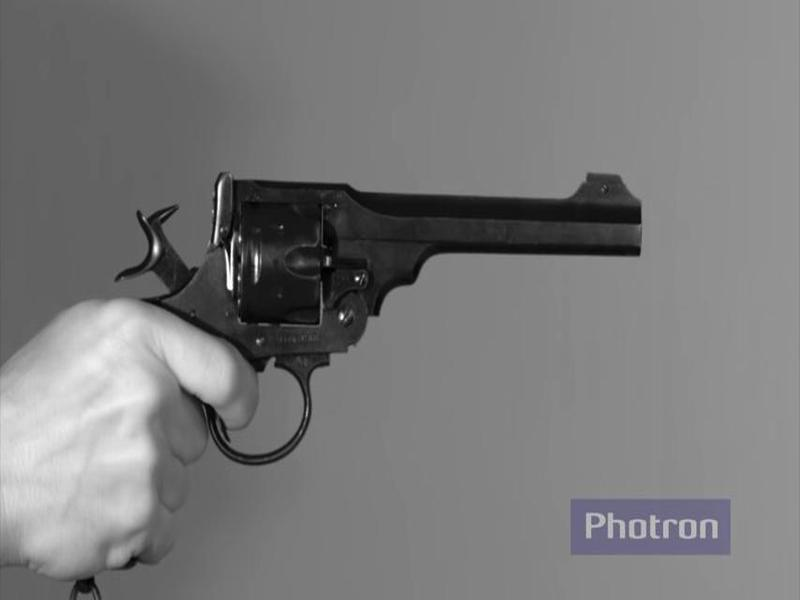Revolver: (108, 139, 664, 459)
